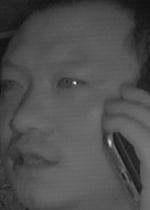eye: (53, 74, 87, 93), (1, 76, 26, 93)
mouth: (3, 137, 63, 176)
